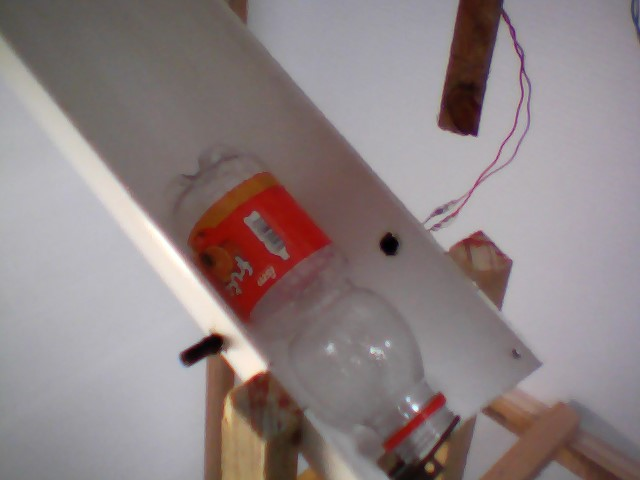plastico: (158, 133, 470, 473)
